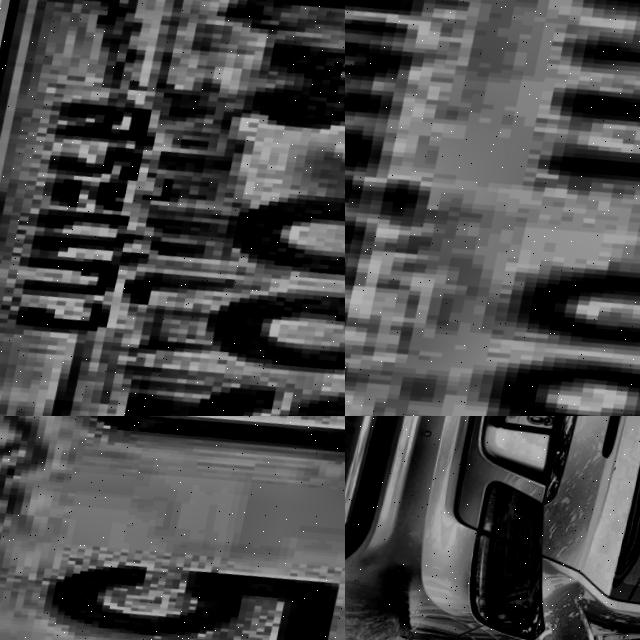license-plate: (0, 0, 345, 416), (345, 0, 640, 416), (0, 416, 345, 640), (488, 416, 586, 445)
